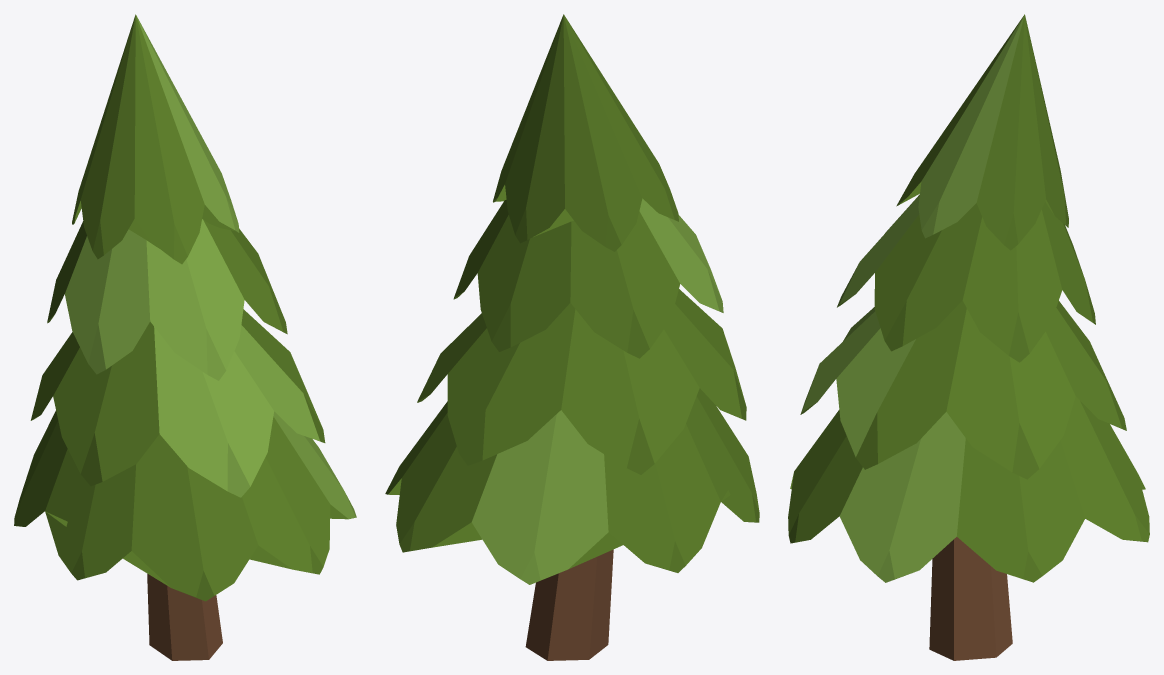
The model's file is Tree4.fbx.
The picture shows the model from 3 angles, left to right: view 1: azimuth 30°, elevation 25°; view 2: azimuth 150°, elevation 25°; view 3: azimuth 270°, elevation 25°; orthographic projection. The views are drawn at different scales.
Parts seen in each view (by area): view 1: Tree4; view 2: Tree4; view 3: Tree4.
Part boxes in pixels (box(x1,y1,x2,y2)): Tree4: box(14, 14, 356, 660); Tree4: box(385, 14, 759, 660); Tree4: box(788, 14, 1149, 660).
Size of the model in its own units: 108 by 224 by 118.
